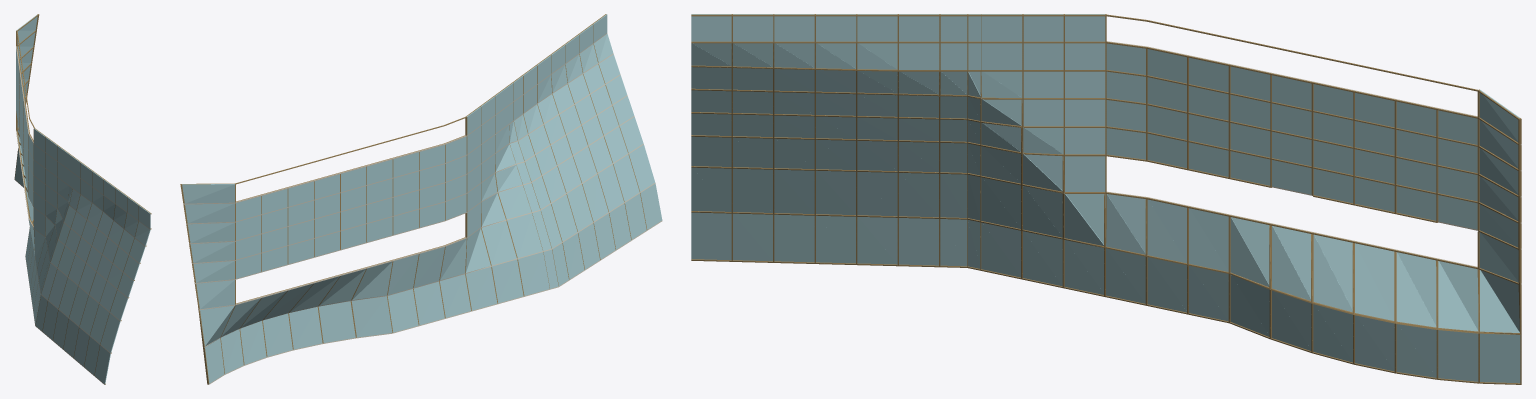
Rendered from G7_Completion_R005_Body_-1_00.glb.
3 renders of one model, left to right at view 1: azimuth 30°, elevation 25°; view 2: azimuth 150°, elevation 25°; view 3: azimuth 270°, elevation 25°, orthographic. The views are drawn at different scales.
Visible parts, largest first — view 1: Body_-1_00_G7C3_glass_solid_skin, Body_-1_00_G7C3_metal_solid_skin, Body_-1_00_G7C3_shell_solid_skin, Body_-1_00_G7C3_metal_solid_frame; view 2: Body_-1_00_G7C3_glass_solid_skin, Body_-1_00_G7C3_shell_solid_skin, Body_-1_00_G7C3_metal_solid_skin, Body_-1_00_G7C3_metal_solid_frame; view 3: Body_-1_00_G7C3_glass_solid_skin, Body_-1_00_G7C3_metal_solid_frame, Body_-1_00_G7C3_shell_solid_skin.
Boxes of the visible parts, x1,y1,x2,y2 form: Body_-1_00_G7C3_glass_solid_skin: (15, 14, 150, 383); Body_-1_00_G7C3_metal_solid_skin: (14, 14, 138, 375); Body_-1_00_G7C3_shell_solid_skin: (14, 46, 150, 384); Body_-1_00_G7C3_metal_solid_frame: (16, 14, 151, 384); Body_-1_00_G7C3_glass_solid_skin: (182, 14, 662, 383); Body_-1_00_G7C3_shell_solid_skin: (183, 33, 662, 384); Body_-1_00_G7C3_metal_solid_skin: (180, 24, 647, 383); Body_-1_00_G7C3_metal_solid_frame: (180, 14, 606, 384); Body_-1_00_G7C3_glass_solid_skin: (691, 14, 1520, 383); Body_-1_00_G7C3_metal_solid_frame: (691, 14, 1521, 384); Body_-1_00_G7C3_shell_solid_skin: (981, 41, 1521, 284).
Bounding box in the file's own units: 49.67 × 45.5 × 120.
Materials: 3 (2 with a texture image).
